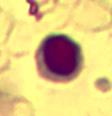lymphocyte: (29, 31, 85, 85)
